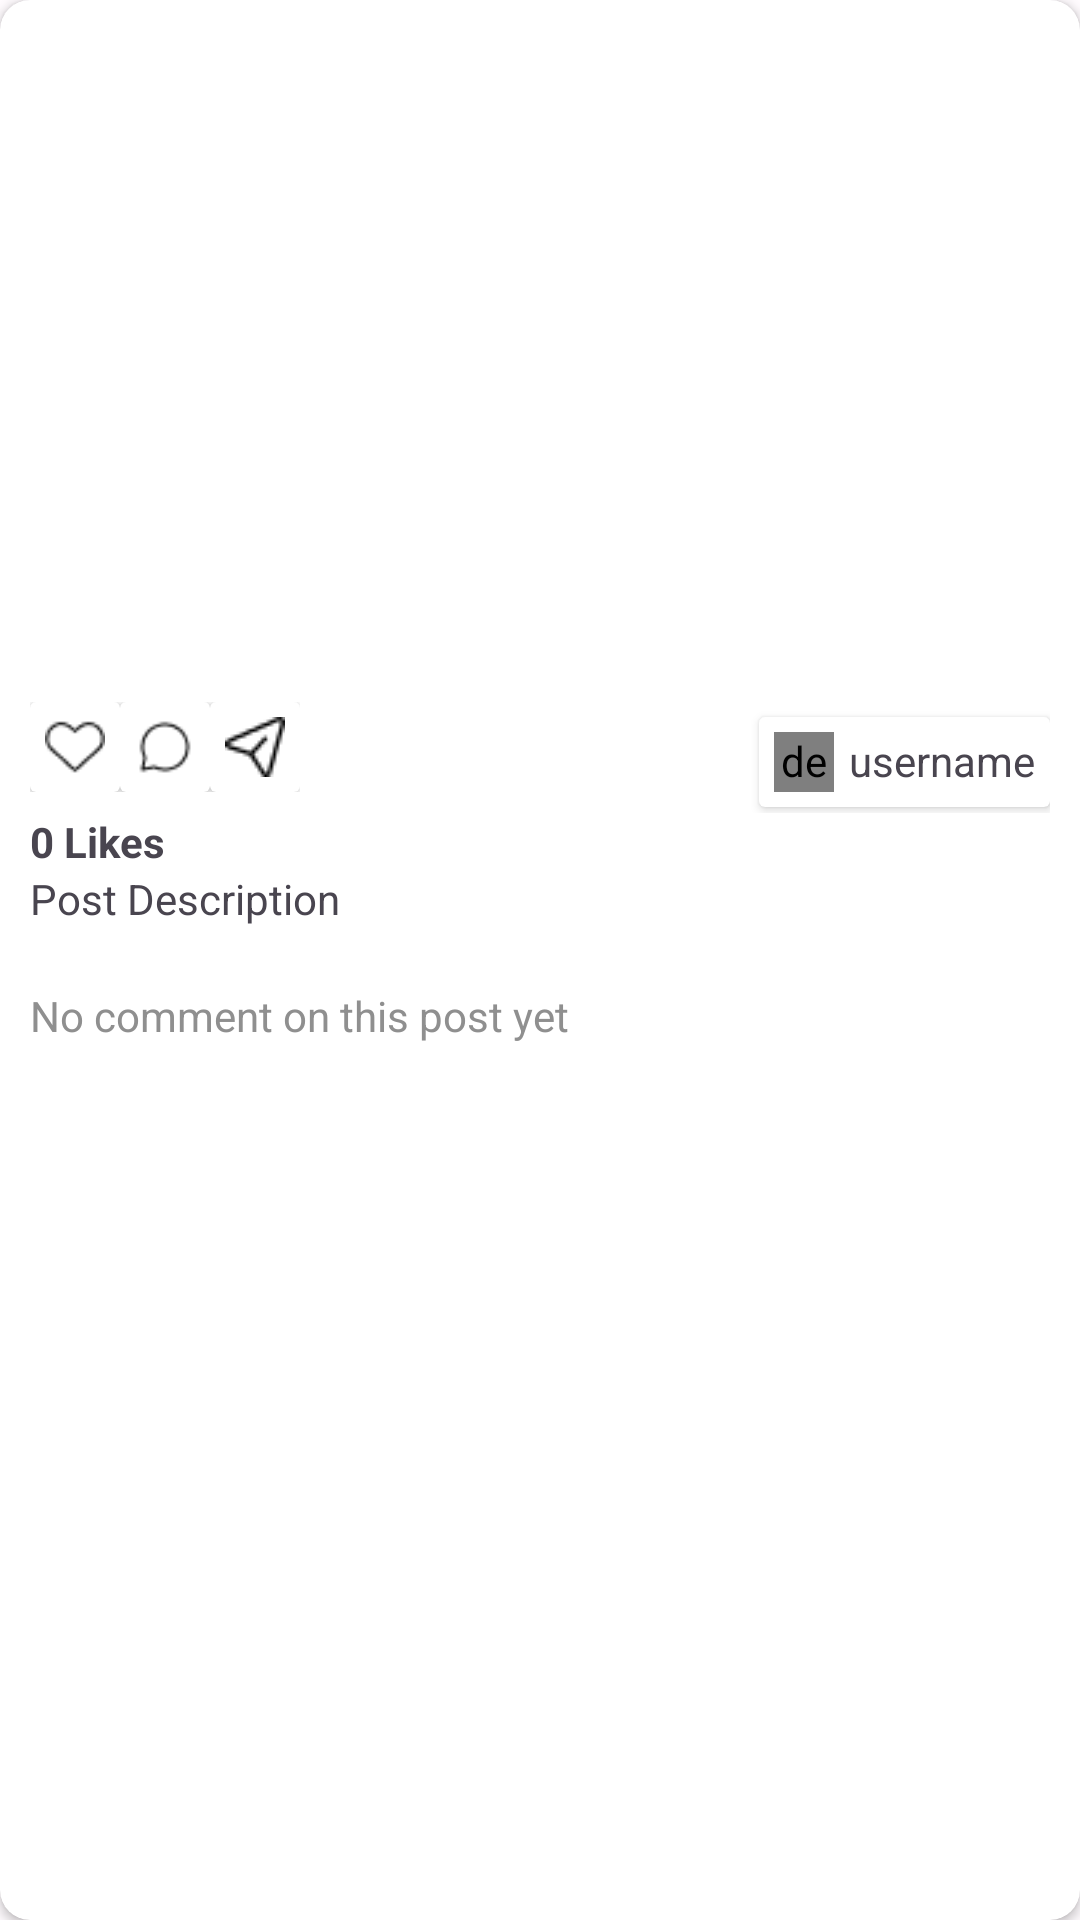

Icon bounding boxes for this 1080 × 1920 phone screenshot, format (x1, y1, x2, y2):
comment: (139, 721, 191, 773)
share: (225, 717, 285, 777)
